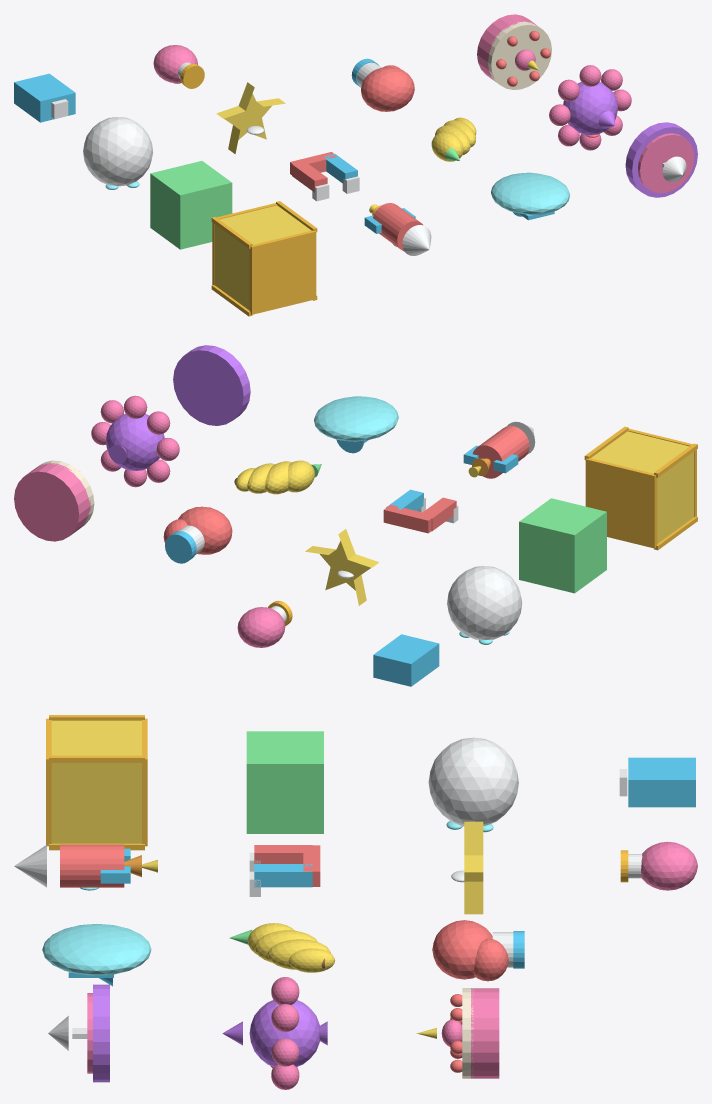
The model's file is all_items_showcase.glb.
The picture shows the model from 3 angles, top to bottom: view 1: azimuth 30°, elevation 25°; view 2: azimuth 150°, elevation 25°; view 3: azimuth 270°, elevation 25°; orthographic projection. The views are drawn at different scales.
Parts seen in each view (by area): view 1: 05_growth_cube_green, 01_mystery_crate_gold_5, 01_mystery_crate_crate, 09_freeze_snowball_white, 03_shield_bubble_shield_bubble, 12_recovery_cake_cream, 04_jump_pad_pink, 13_dash_battery_blue, 11_boxing_glove_red, 08_spike_mine_purple, 04_jump_pad_purple, 10_energy_star_energy_star (+9 smaller); view 2: 05_growth_cube_green, 01_mystery_crate_gold_4, 04_jump_pad_purple, 01_mystery_crate_crate, 12_recovery_cake_pink, 09_freeze_snowball_white, 03_shield_bubble_shield_bubble, 13_dash_battery_blue, 08_spike_mine_purple, 10_energy_star_energy_star, 14_health_potion_pink, 11_boxing_glove_red (+6 smaller); view 3: 01_mystery_crate_crate, 05_growth_cube_green, 09_freeze_snowball_white, 03_shield_bubble_shield_bubble, 13_dash_battery_blue, 12_recovery_cake_pink, 08_spike_mine_purple, 02_dash_rocket_rocket_body, 11_boxing_glove_red, 14_health_potion_pink, 10_energy_star_energy_star, 04_jump_pad_purple (+16 smaller).
Part boxes in pixels (x1=…): 05_growth_cube_green: x1=150, y1=161, x2=232, y2=249; 01_mystery_crate_gold_5: x1=249, y1=230, x2=316, y2=314; 01_mystery_crate_crate: x1=215, y1=205, x2=311, y2=310; 09_freeze_snowball_white: x1=83, y1=117, x2=152, y2=186; 03_shield_bubble_shield_bubble: x1=491, y1=172, x2=569, y2=214; 12_recovery_cake_cream: x1=487, y1=21, x2=551, y2=89; 04_jump_pad_pink: x1=638, y1=133, x2=694, y2=193; 13_dash_battery_blue: x1=14, y1=73, x2=75, y2=122; 11_boxing_glove_red: x1=361, y1=67, x2=414, y2=111; 08_spike_mine_purple: x1=563, y1=82, x2=617, y2=135; 04_jump_pad_purple: x1=625, y1=122, x2=697, y2=197; 10_energy_star_energy_star: x1=216, y1=82, x2=285, y2=153; 05_growth_cube_green: x1=519, y1=498, x2=606, y2=593; 01_mystery_crate_gold_4: x1=585, y1=458, x2=657, y2=548; 04_jump_pad_purple: x1=173, y1=345, x2=250, y2=425; 01_mystery_crate_crate: x1=591, y1=431, x2=693, y2=543; 12_recovery_cake_pink: x1=14, y1=463, x2=90, y2=541; 09_freeze_snowball_white: x1=447, y1=566, x2=522, y2=639; 03_shield_bubble_shield_bubble: x1=314, y1=396, x2=398, y2=441; 13_dash_battery_blue: x1=373, y1=634, x2=439, y2=686; 08_spike_mine_purple: x1=105, y1=414, x2=164, y2=470; 10_energy_star_energy_star: x1=305, y1=529, x2=378, y2=605; 14_health_potion_pink: x1=237, y1=607, x2=285, y2=647; 11_boxing_glove_red: x1=178, y1=506, x2=232, y2=554; 01_mystery_crate_crate: x1=51, y1=720, x2=141, y2=843; 05_growth_cube_green: x1=246, y1=731, x2=323, y2=833; 09_freeze_snowball_white: x1=428, y1=737, x2=518, y2=826; 03_shield_bubble_shield_bubble: x1=42, y1=924, x2=151, y2=975; 13_dash_battery_blue: x1=628, y1=757, x2=695, y2=807; 12_recovery_cake_pink: x1=471, y1=988, x2=499, y2=1078; 08_spike_mine_purple: x1=249, y1=1000, x2=319, y2=1067; 02_dash_rocket_rocket_body: x1=60, y1=844, x2=124, y2=887; 11_boxing_glove_red: x1=432, y1=920, x2=492, y2=979; 14_health_potion_pink: x1=641, y1=841, x2=697, y2=890; 10_energy_star_energy_star: x1=464, y1=821, x2=483, y2=914; 04_jump_pad_purple: x1=93, y1=984, x2=109, y2=1082.
Size of the model in its own units: 7.47 by 1.27 by 7.26.
